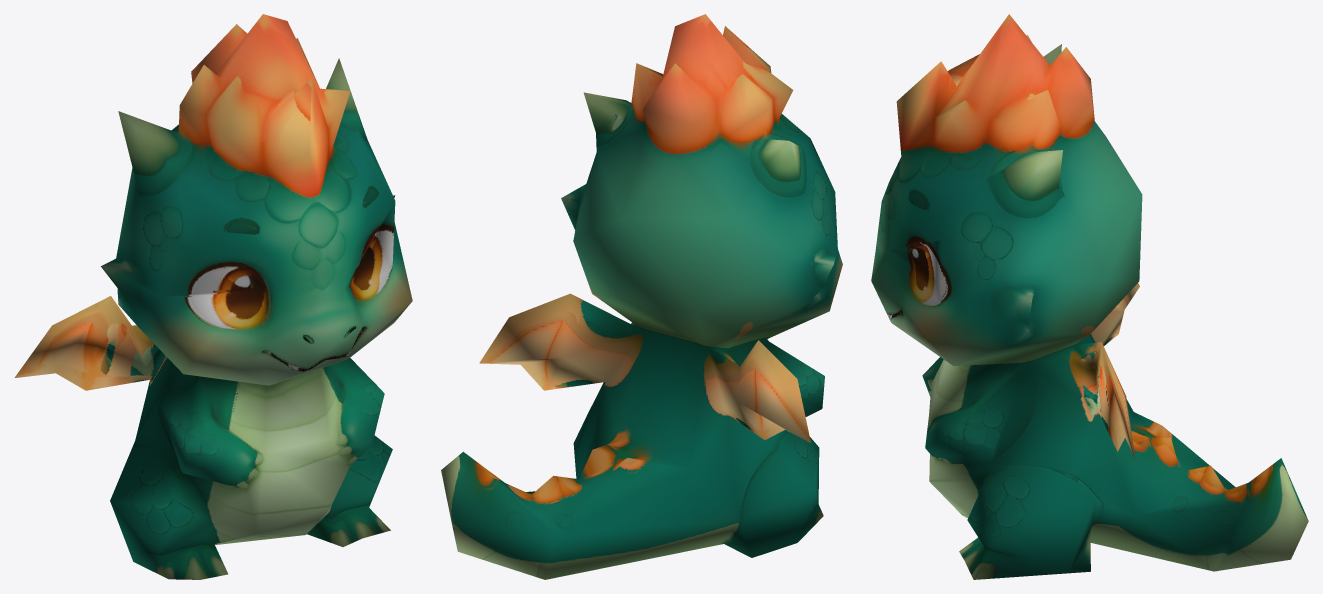
File: dragon-game-340.glb
3 renders of one model, left to right at view 1: azimuth 30°, elevation 25°; view 2: azimuth 150°, elevation 25°; view 3: azimuth 270°, elevation 25°, orthographic. The views are drawn at different scales.
Parts seen in each view (by area): view 1: material; view 2: material; view 3: material.
Part boxes in pixels (bbox=[...]): material: bbox=[14, 14, 412, 579]; material: bbox=[441, 14, 842, 579]; material: bbox=[871, 14, 1308, 579].
Size of the model in its own units: 0.6971 by 0.9883 by 0.7558.
1 material, 1 textured.
